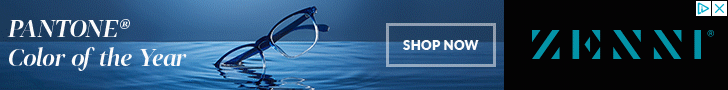fake_button: (380, 14, 500, 76)
